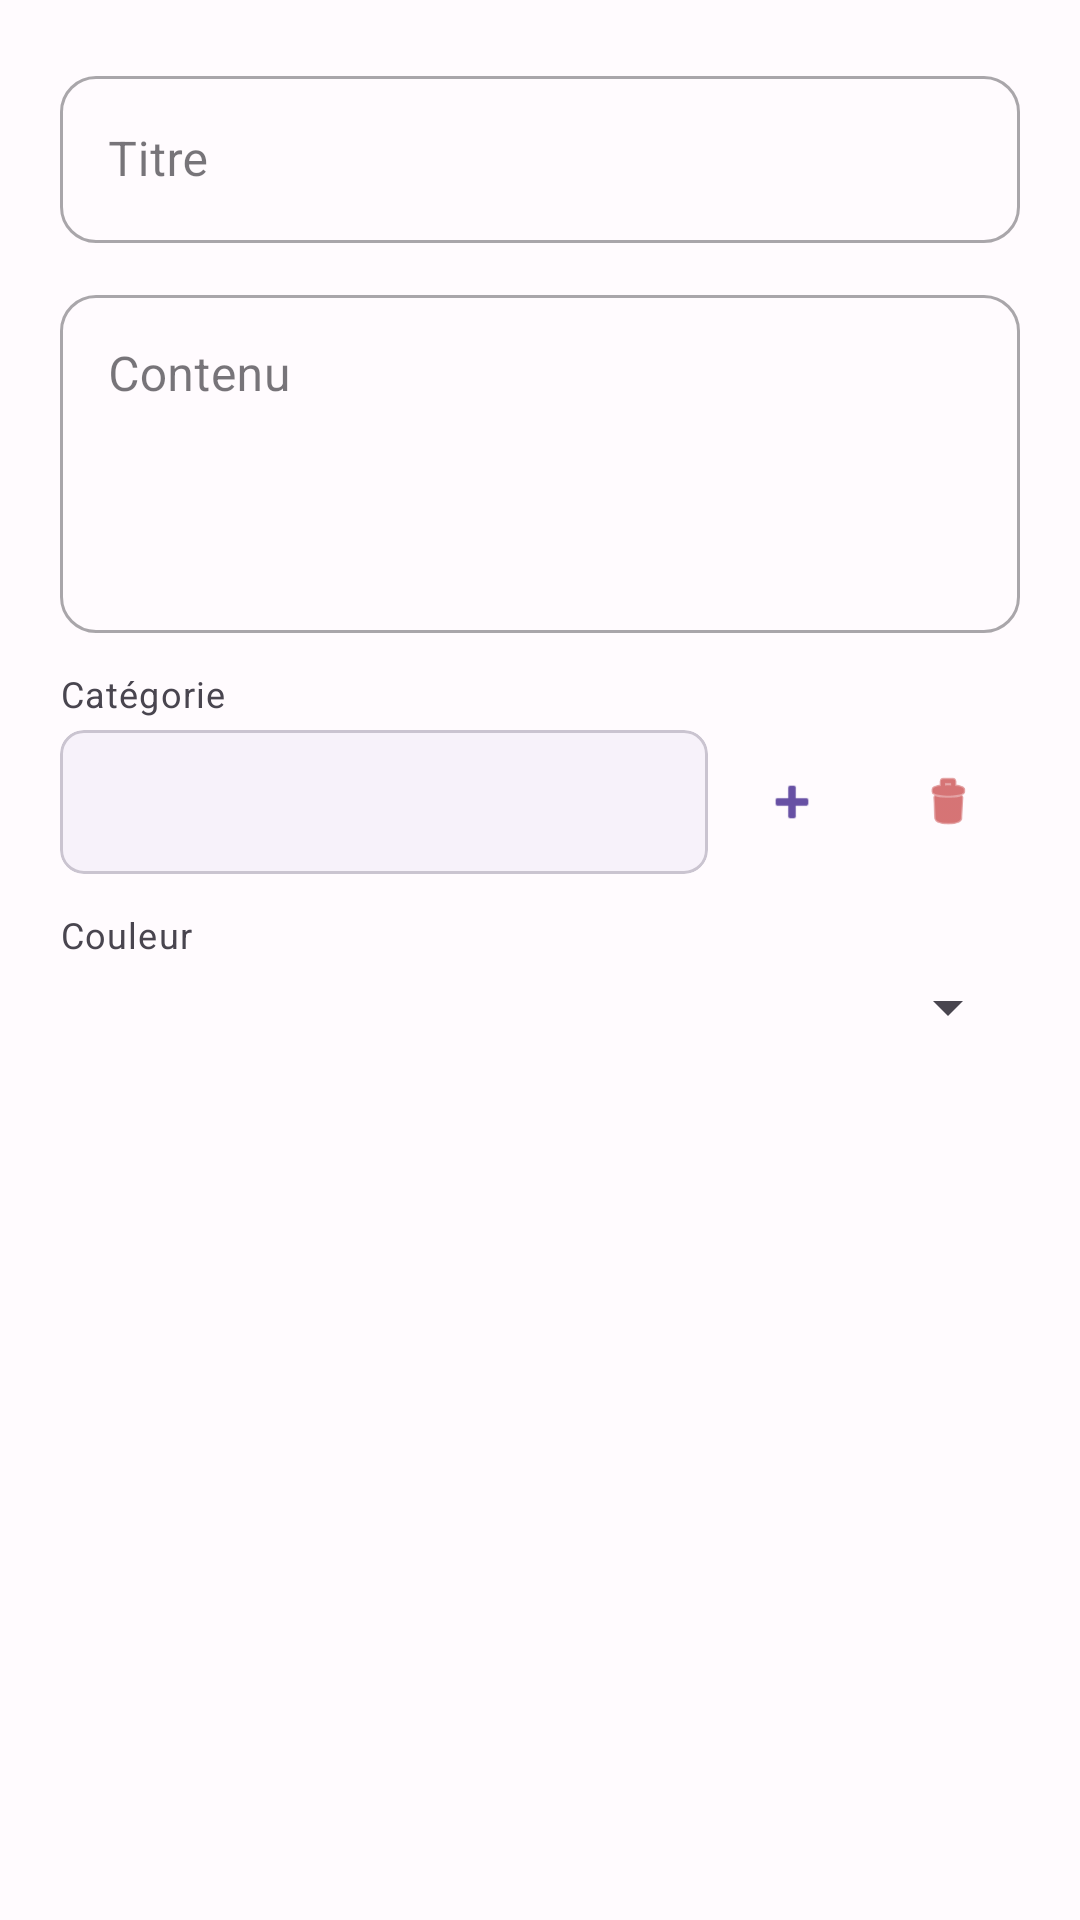

Icon click points for this 1080 × 1920 phone screenshot, format [x,y]:
add: [792,802]
delete: [948,801]
